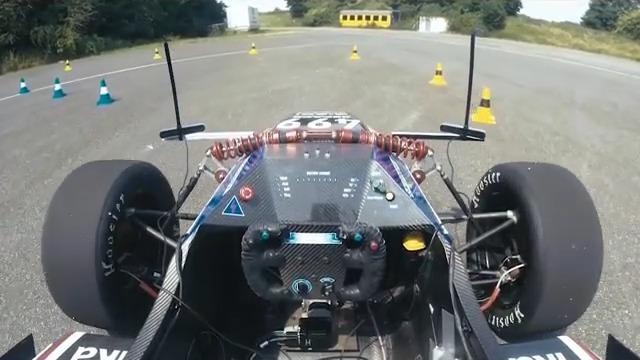blue_cone: (96, 79, 115, 106), (53, 77, 68, 99), (19, 77, 32, 94)
yellow_cone: (471, 88, 496, 125), (428, 63, 448, 86), (350, 45, 361, 59), (249, 43, 259, 55), (64, 59, 73, 72), (153, 48, 162, 60)
